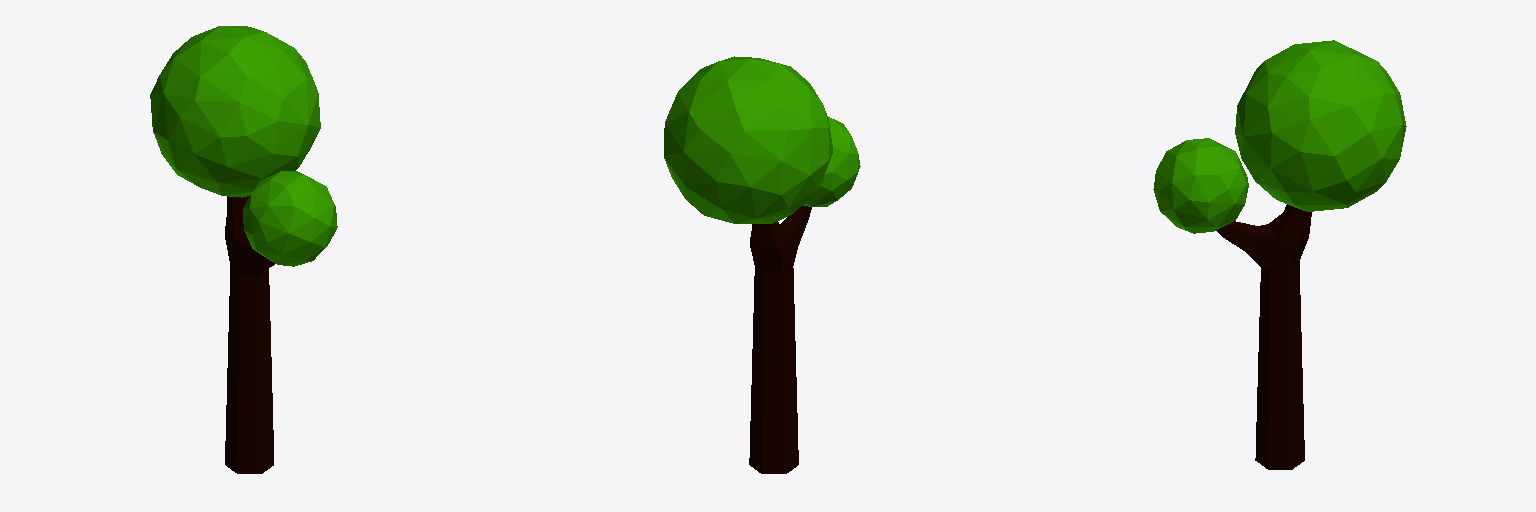
3 renders of one model, left to right at view 1: azimuth 30°, elevation 25°; view 2: azimuth 150°, elevation 25°; view 3: azimuth 270°, elevation 25°, orthographic.
Visible parts, largest first — view 1: Icosphere.001_Icosphere.003; view 2: Icosphere.001_Icosphere.003; view 3: Icosphere.001_Icosphere.003.
Part boxes in pixels (left/top/right/bottom): Icosphere.001_Icosphere.003: left=150, top=26, right=337, bottom=473; Icosphere.001_Icosphere.003: left=664, top=56, right=860, bottom=473; Icosphere.001_Icosphere.003: left=1153, top=40, right=1406, bottom=469.
Bounding box in the file's own units: 3.02 × 8.05 × 4.45.
1 materials, 1 textured.